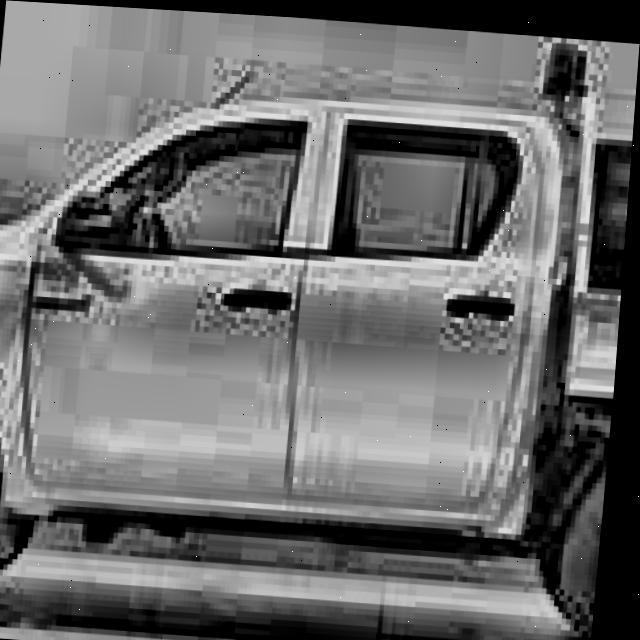light_vehicle: (0, 17, 639, 640)
